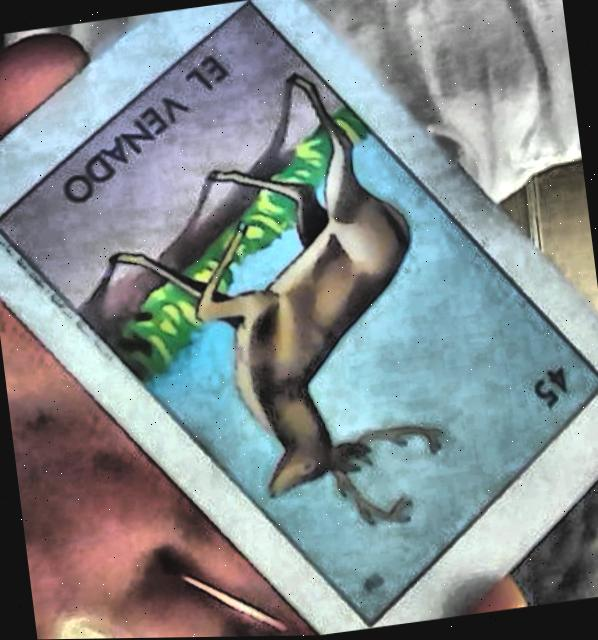El Venado: (0, 2, 598, 628)
